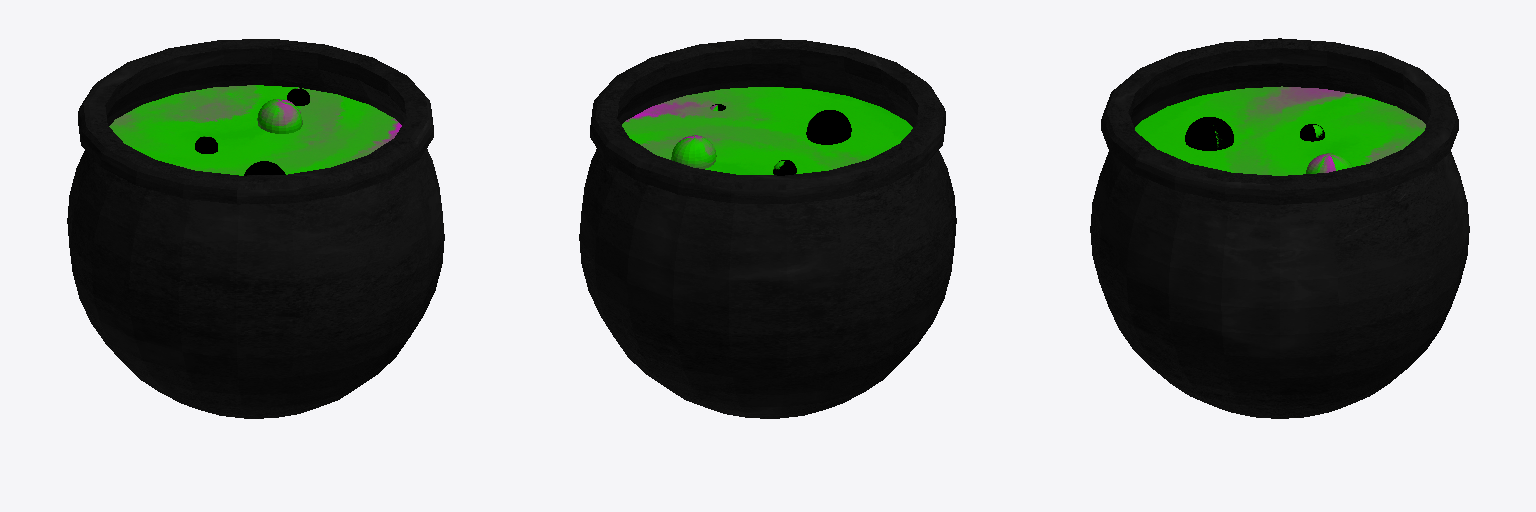
The picture shows the model from 3 angles: view 1: azimuth 30°, elevation 25°; view 2: azimuth 150°, elevation 25°; view 3: azimuth 270°, elevation 25°; orthographic projection.
Visible parts, largest first — view 1: cauldron_yes.003, cauldron_yes.007, cauldron_yes.006, cauldron_yes.005; view 2: cauldron_yes.003, cauldron_yes.007, cauldron_yes.004, cauldron_yes.006; view 3: cauldron_yes.003, cauldron_yes.007, cauldron_yes.004, cauldron_yes.006.
Part boxes in pixels (x1,y1,x2,y2): cauldron_yes.003: (67,39,444,418); cauldron_yes.007: (109,85,401,175); cauldron_yes.006: (257,99,302,133); cauldron_yes.005: (195,88,309,153); cauldron_yes.003: (579,39,956,418); cauldron_yes.007: (622,87,912,174); cauldron_yes.004: (710,104,851,144); cauldron_yes.006: (671,135,716,168); cauldron_yes.003: (1090,38,1469,418); cauldron_yes.007: (1135,86,1425,175); cauldron_yes.004: (1185,117,1233,150); cauldron_yes.006: (1306,153,1351,173).
Size of the model in its own units: 2.41 by 2.04 by 2.41.
Materials: 5 (3 with a texture image).